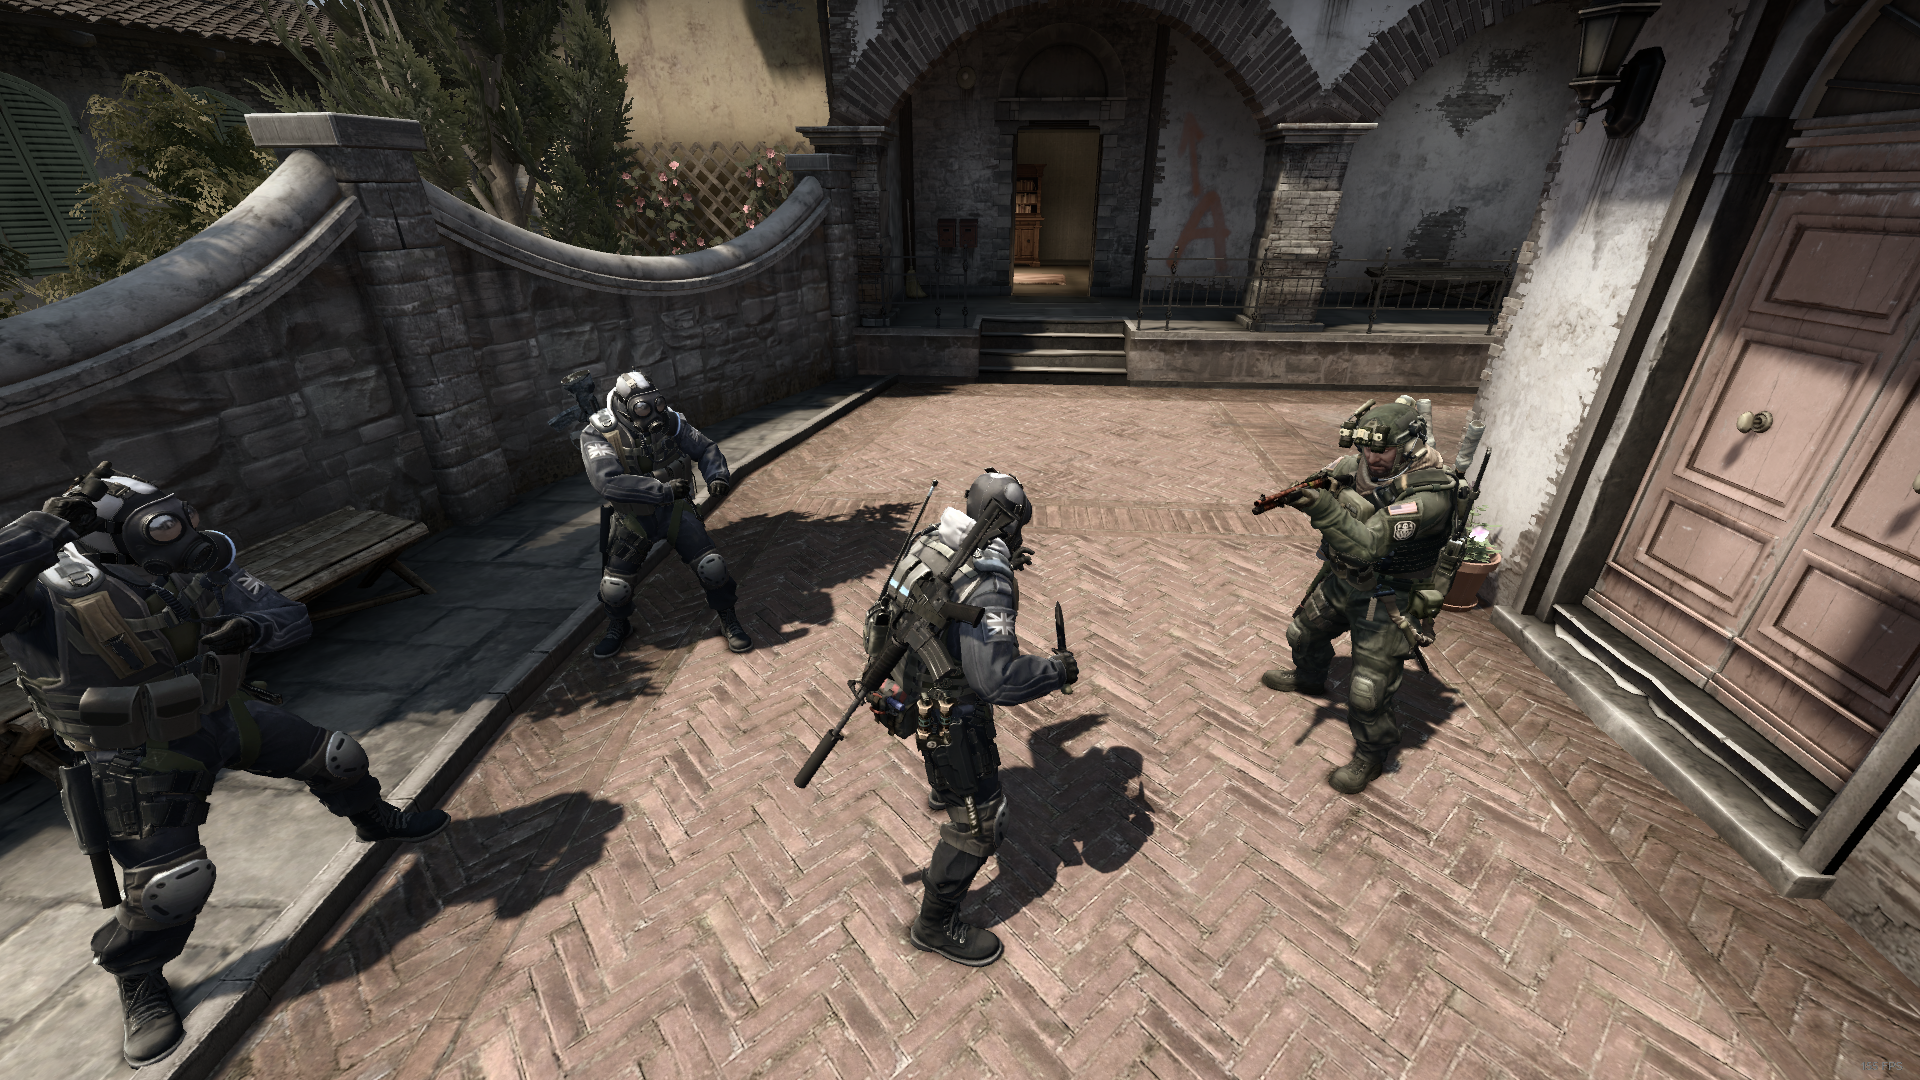ct: (1, 472, 452, 1050), (864, 472, 1077, 969), (575, 369, 760, 653)
